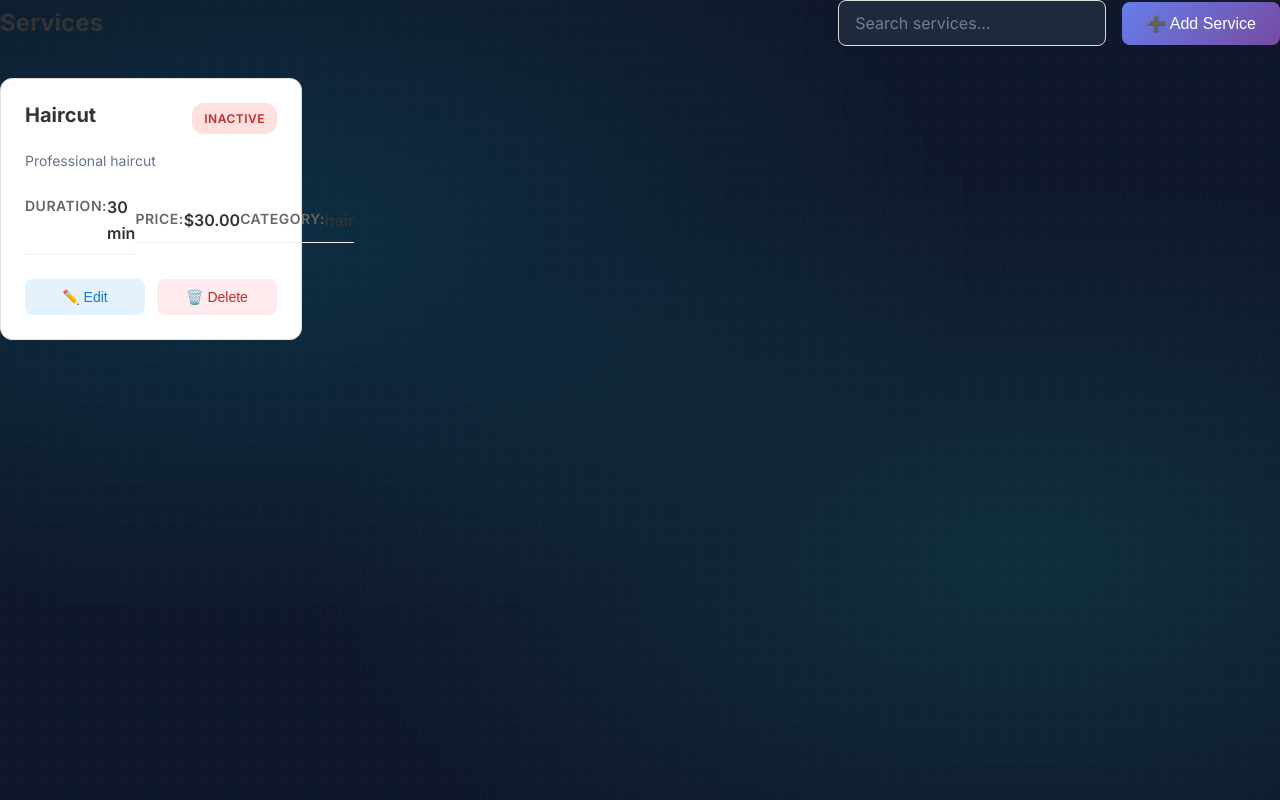
Test: ServiceManager Component - TDD › Edit Service › should open edit modal with pre-filled data
Click the button "✏️ Edit".
click(85, 297)  # box [25,279,145,315]
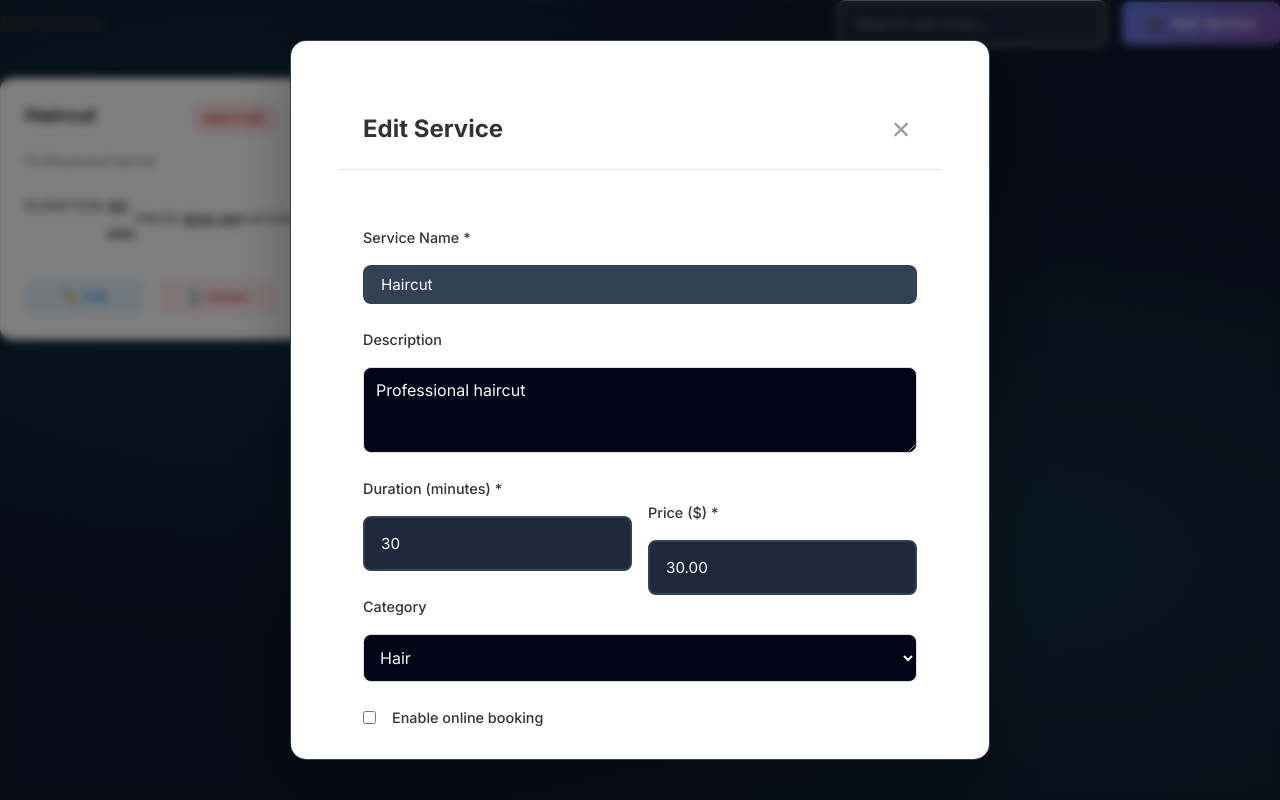
Now the field showing "Haircut" is shown, box [363,265,917,304]
Now the text box showing "Professional haircut" is shown, box [363,367,917,453]
Now the number field showing "30" is shown, box [363,516,632,571]
